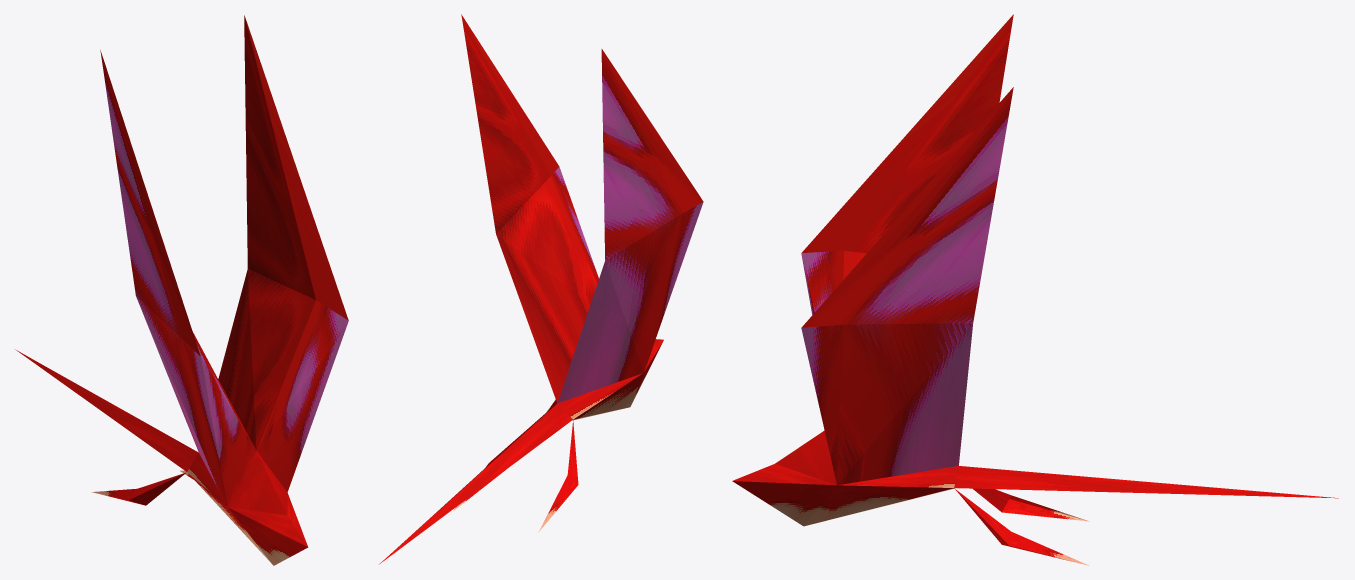
File: swamp-bat-lod2.glb
The picture shows the model from 3 angles, left to right: view 1: azimuth 30°, elevation 25°; view 2: azimuth 150°, elevation 25°; view 3: azimuth 270°, elevation 25°; orthographic projection. The views are drawn at different scales.
Parts seen in each view (by area): view 1: swamp-bat-lod2; view 2: swamp-bat-lod2; view 3: swamp-bat-lod2.
Boxes of the visible parts, x1=… form: swamp-bat-lod2: x1=15, y1=15, x2=348, y2=565; swamp-bat-lod2: x1=379, y1=14, x2=703, y2=564; swamp-bat-lod2: x1=732, y1=14, x2=1338, y2=565.
Bounding box in the file's own units: 0.7818 × 2.41 × 2.69.
Materials: 3 (3 with a texture image).
